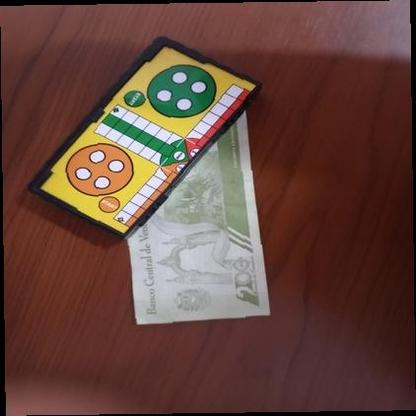fifty-back-vef: (126, 104, 272, 326)
